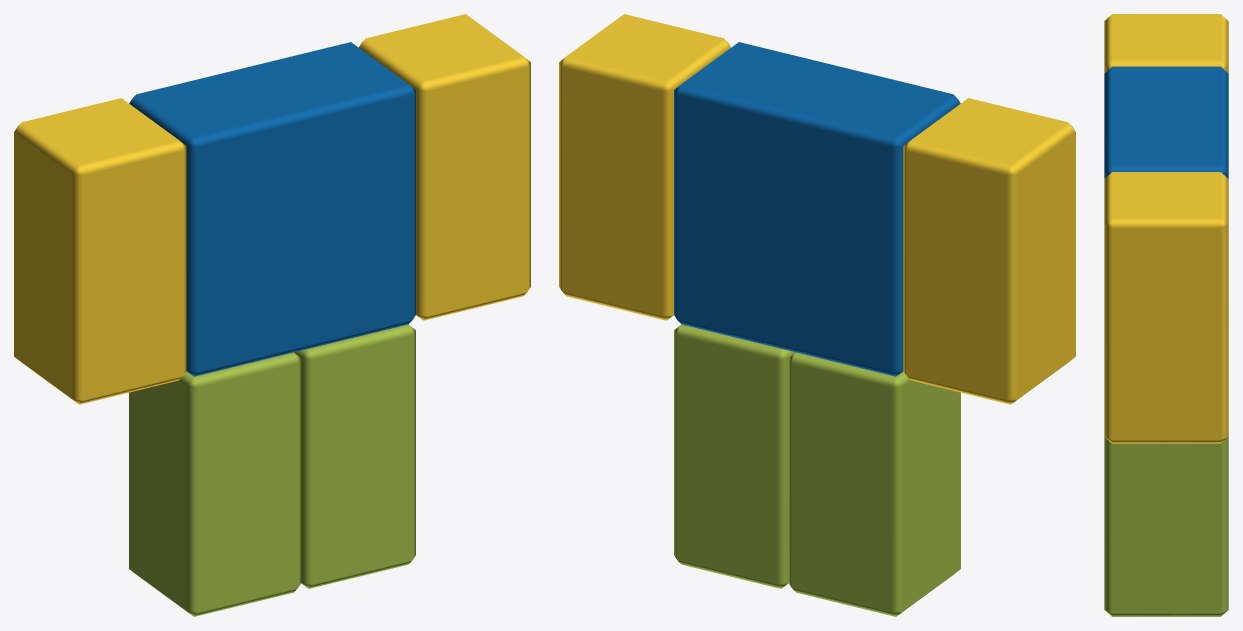
The model's file is viewport.glb.
The picture shows the model from 3 angles, left to right: view 1: azimuth 30°, elevation 25°; view 2: azimuth 150°, elevation 25°; view 3: azimuth 270°, elevation 25°; orthographic projection. The views are drawn at different scales.
Visible parts, largest first — view 1: Object_9; view 2: Object_9; view 3: Object_9.
Part boxes in pixels (x1,y1,x2,y2): Object_9: [14, 14, 530, 616]; Object_9: [559, 14, 1075, 616]; Object_9: [1104, 14, 1228, 616].
Size of the model in its own units: 4 by 4 by 1.
Materials: 1 (1 with a texture image).
